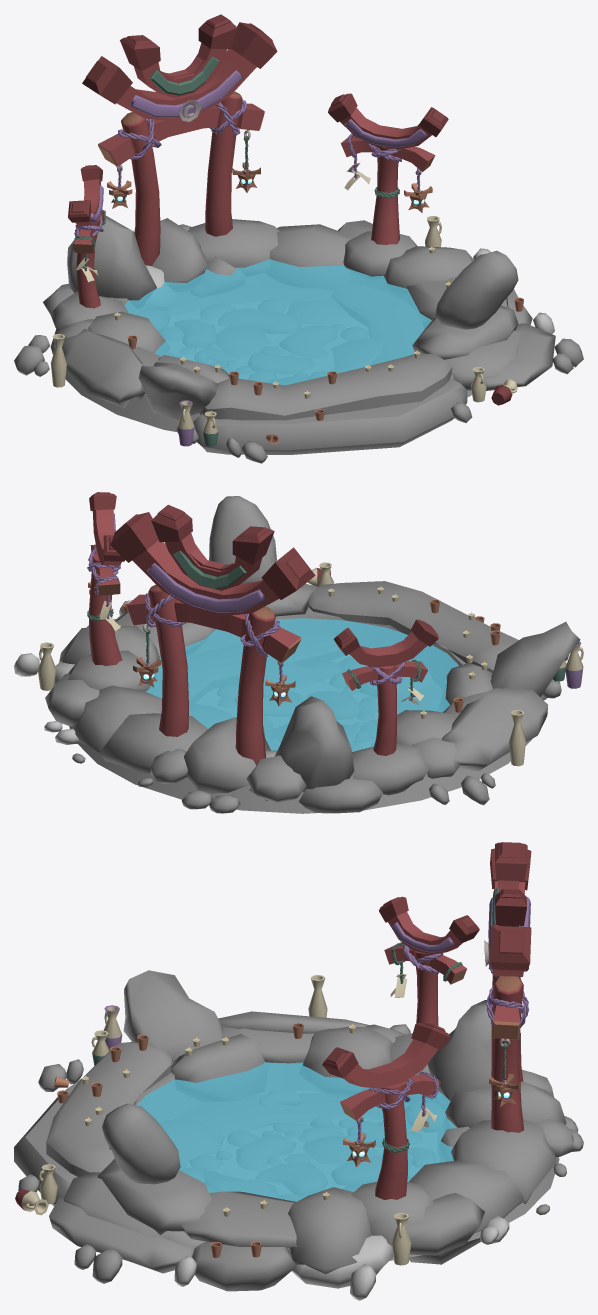
File: moonwell.glb
The picture shows the model from 3 angles, top to bottom: view 1: azimuth 30°, elevation 25°; view 2: azimuth 150°, elevation 25°; view 3: azimuth 270°, elevation 25°; orthographic projection. The views are drawn at different scales.
Parts seen in each view (by area): view 1: pointLight17; view 2: pointLight17; view 3: pointLight17.
Boxes of the visible parts, x1=… form: pointLight17: x1=14, y1=14, x2=583, y2=463; pointLight17: x1=14, y1=492, x2=583, y2=813; pointLight17: x1=14, y1=842, x2=583, y2=1300.
Size of the model in its own units: 29.57 by 17.97 by 27.56.
